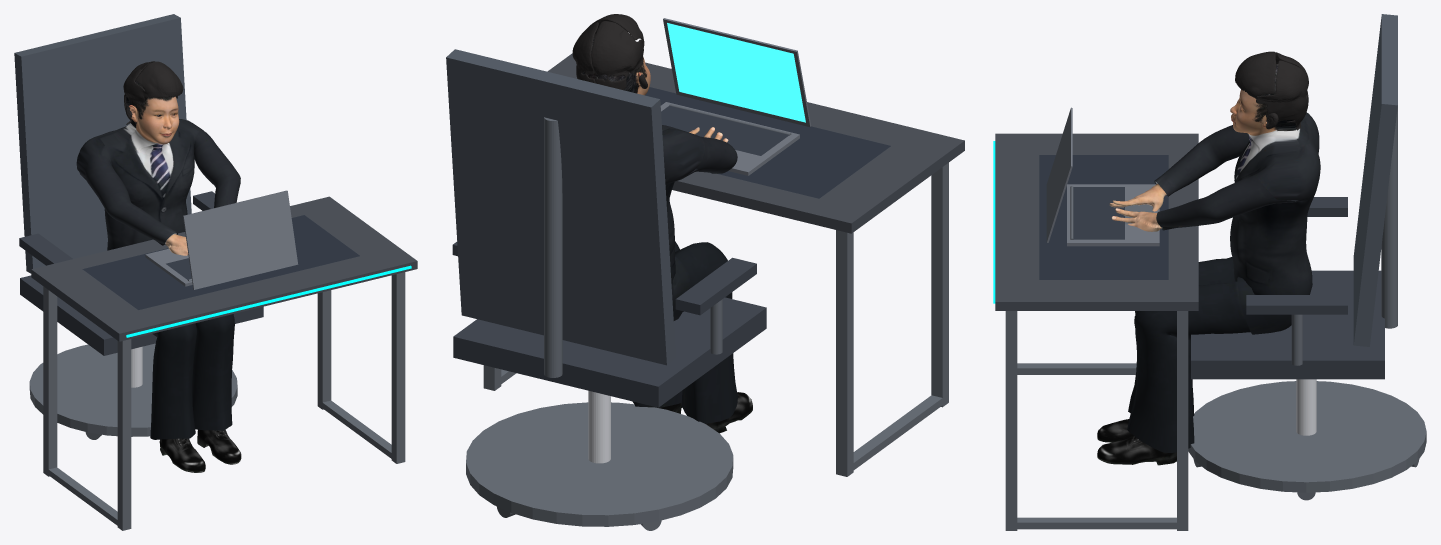
File: kabish_avatar.glb
The picture shows the model from 3 angles, left to right: view 1: azimuth 30°, elevation 25°; view 2: azimuth 150°, elevation 25°; view 3: azimuth 270°, elevation 25°; orthographic projection. The views are drawn at different scales.
Visible parts, largest first — view 1: H_DDS_HighRes, Chair_Backrest, Developer_Desk_Top, Kabish_Laptop_Lid, Chair_StarBase, Desk_MousePad, Desk_Leg_L_Front, Desk_Leg_R_Front, Chair_Seat, Desk_Leg_R_Back, Kabish_Signature_Hair, Desk_Leg_L_Back (+6 smaller); view 2: Chair_Backrest, Chair_StarBase, Developer_Desk_Top, Chair_Seat, H_DDS_HighRes, Kabish_Screen_Display, Desk_MousePad, Chair_Spine_Frame, Desk_Leg_R_Back, Desk_Leg_R_Front, Kabish_Signature_Hair, Kabish_Laptop_Keyboard (+6 smaller); view 3: H_DDS_HighRes, Chair_StarBase, Developer_Desk_Top, Chair_Seat, Desk_MousePad, Chair_Backrest, Kabish_Signature_Hair, Desk_Leg_L_Front, Desk_Leg_L_Back, Kabish_Laptop_Keyboard, Chair_Spine_Frame, Desk_Leg_L_Crossbar (+7 smaller).
Boxes of the visible parts, left/top/right/bottom form: H_DDS_HighRes: left=76, top=74, right=241, bottom=472; Chair_Backrest: left=14, top=14, right=191, bottom=273; Developer_Desk_Top: left=31, top=196, right=417, bottom=341; Kabish_Laptop_Lid: left=183, top=190, right=298, bottom=289; Chair_StarBase: left=29, top=343, right=237, bottom=436; Desk_MousePad: left=82, top=215, right=359, bottom=309; Desk_Leg_L_Front: left=391, top=272, right=405, bottom=463; Desk_Leg_R_Front: left=117, top=339, right=131, bottom=530; Chair_Seat: left=20, top=275, right=263, bottom=355; Desk_Leg_R_Back: left=43, top=286, right=57, bottom=476; Kabish_Signature_Hair: left=123, top=61, right=183, bottom=124; Desk_Leg_L_Back: left=317, top=290, right=331, bottom=409; Chair_Backrest: left=446, top=49, right=675, bottom=365; Chair_StarBase: left=466, top=402, right=733, bottom=526; Developer_Desk_Top: left=547, top=53, right=964, bottom=233; Chair_Seat: left=453, top=297, right=766, bottom=407; H_DDS_HighRes: left=582, top=37, right=752, bottom=433; Kabish_Screen_Display: left=667, top=23, right=805, bottom=122; Desk_MousePad: left=645, top=87, right=890, bottom=198; Chair_Spine_Frame: left=544, top=117, right=562, bottom=377; Desk_Leg_R_Back: left=836, top=230, right=853, bottom=476; Desk_Leg_R_Front: left=931, top=162, right=948, bottom=407; Kabish_Signature_Hair: left=572, top=14, right=647, bottom=90; Kabish_Laptop_Keyboard: left=661, top=105, right=789, bottom=155; H_DDS_HighRes: left=1097, top=64, right=1320, bottom=465; Chair_StarBase: left=1188, top=381, right=1426, bottom=492; Developer_Desk_Top: left=995, top=133, right=1198, bottom=310; Chair_Seat: left=1191, top=270, right=1384, bottom=379; Desk_MousePad: left=1039, top=155, right=1168, bottom=279; Chair_Backrest: left=1353, top=14, right=1397, bottom=346; Kabish_Signature_Hair: left=1235, top=51, right=1308, bottom=130; Desk_Leg_L_Front: left=1005, top=311, right=1017, bottom=530; Desk_Leg_L_Back: left=1177, top=311, right=1188, bottom=530; Kabish_Laptop_Keyboard: left=1073, top=187, right=1124, bottom=239; Chair_Spine_Frame: left=1381, top=106, right=1397, bottom=328; Desk_Leg_L_Crossbar: left=1015, top=517, right=1185, bottom=529.
Size of the model in its own units: 0.86 by 0.9571 by 0.9373.
Materials: 12 (1 with a texture image).
